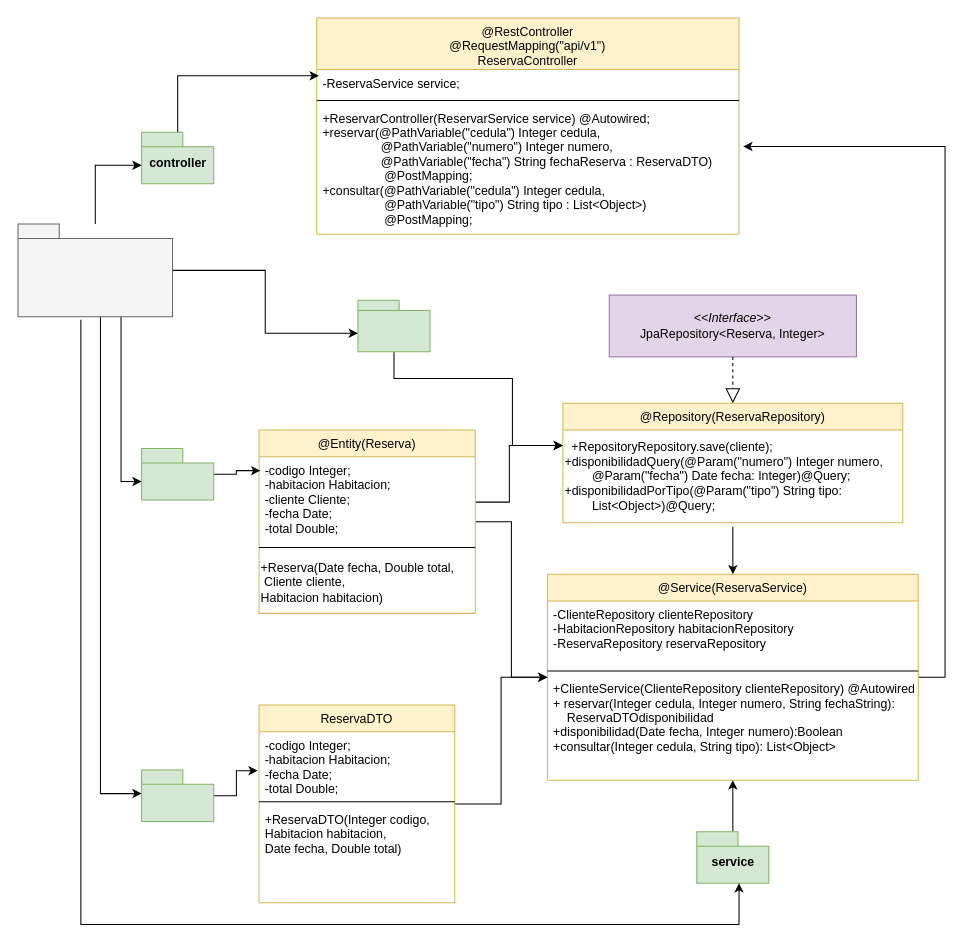
Image size: 971x951. Some labels were removed from this diagram. The centre of each missing label's shape, as x and y in pixels:
"dto" goes at (177,795).
"entity" goes at (177,474).
"repository" goes at (393,325).
"workshopreservas" goes at (95,270).
